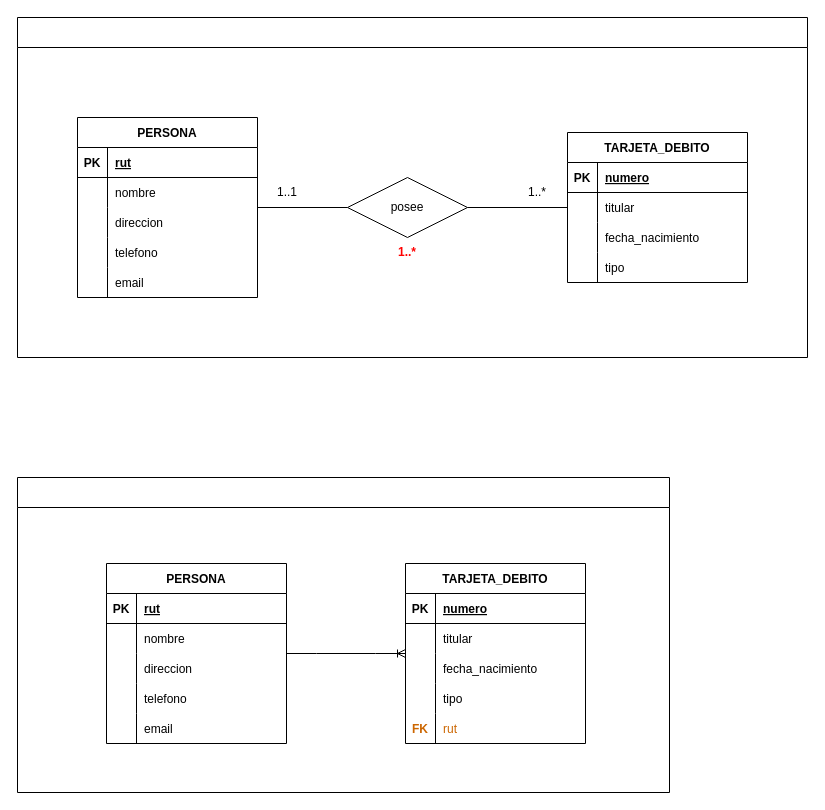
Some shapes in this 825 by 810 pixel diagram are drawn without their labels. The box of each missing label's shape, as (x1, y1, x2, y2) in pixels:
MODELO ENTIDAD RELACION (Persona-Tarjeta): (16, 16, 808, 358)
MODELO RELACIONAL (Persona-Tarjeta): (16, 476, 670, 792)
